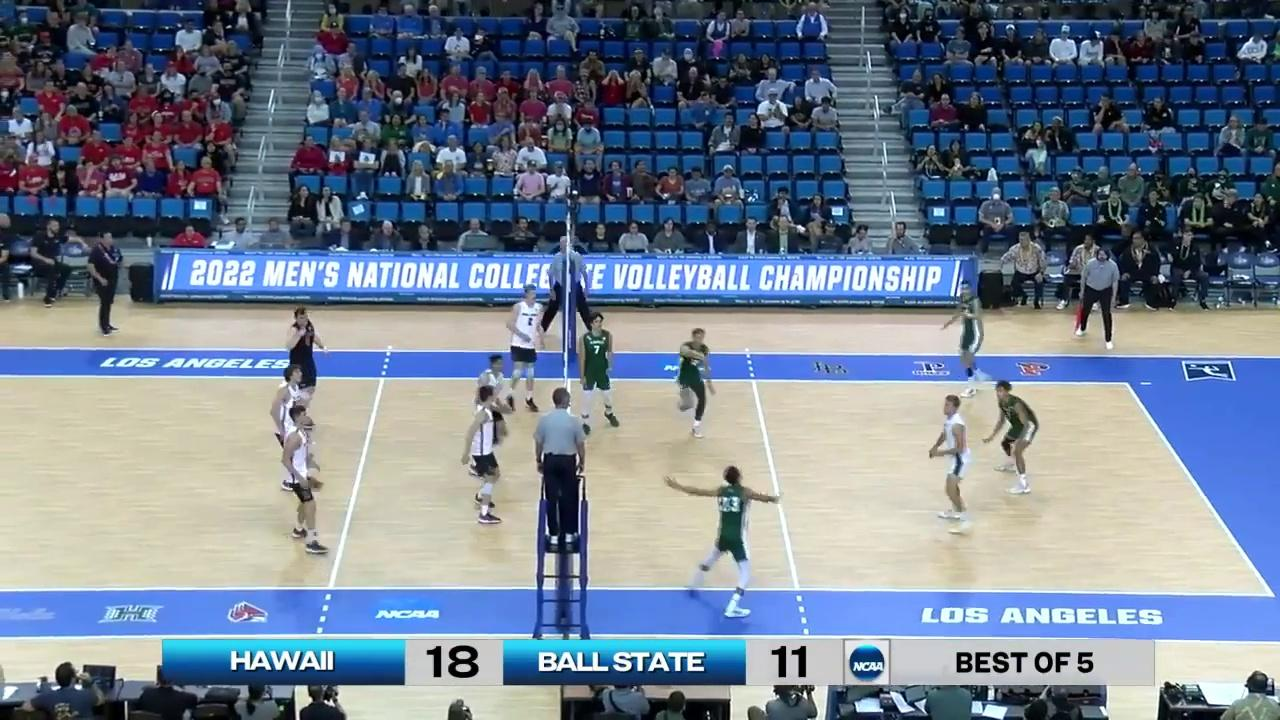player: (676, 469, 778, 620), (278, 406, 331, 559), (268, 363, 319, 490), (460, 389, 505, 529), (930, 397, 977, 531), (985, 380, 1039, 493), (279, 301, 326, 419), (467, 352, 513, 470), (579, 310, 622, 434), (505, 283, 545, 411), (673, 329, 714, 437), (951, 281, 989, 391)
refree: (534, 388, 591, 547), (1077, 246, 1121, 346), (546, 236, 589, 338)
